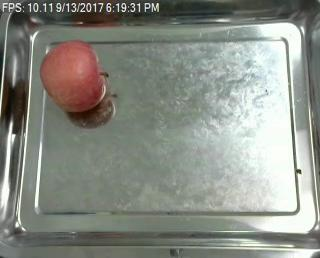apple: (38, 38, 108, 112)
